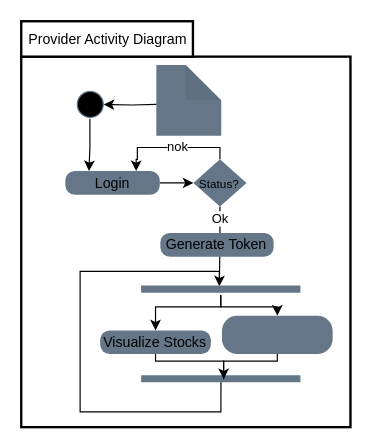
This 372x448 diagram has some shape labels left out. The shapes that lost their labels are listed below. From the top down, each one's box as (x1, y1, x2, y2) in pixels, then its label:
(156, 64, 221, 135): Provider Open Interface
(221, 315, 332, 353): Add Product/Stock
